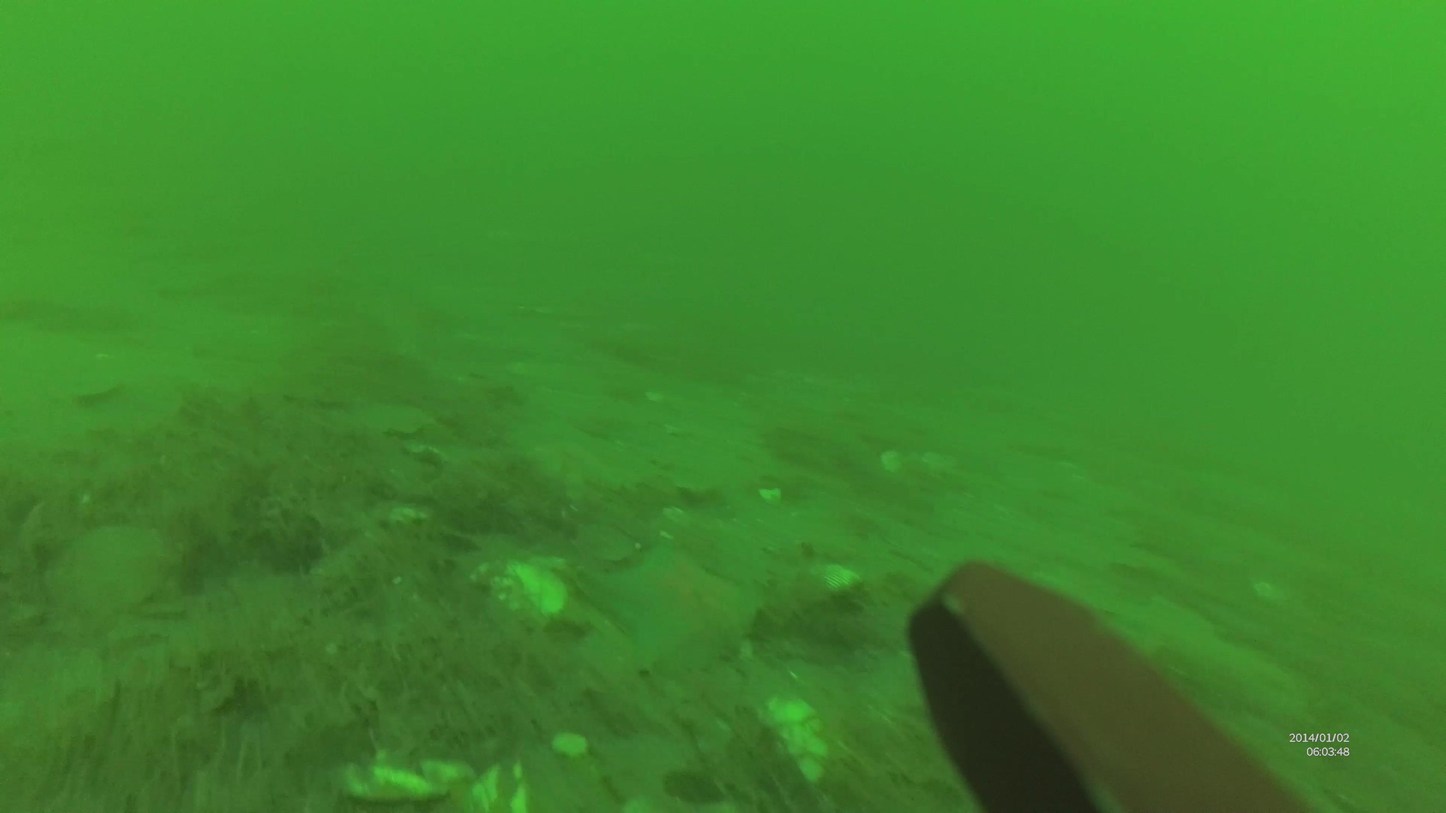holothurian: (577, 528, 752, 685), (47, 514, 178, 633)
scallop: (496, 557, 572, 626), (803, 557, 865, 606)
